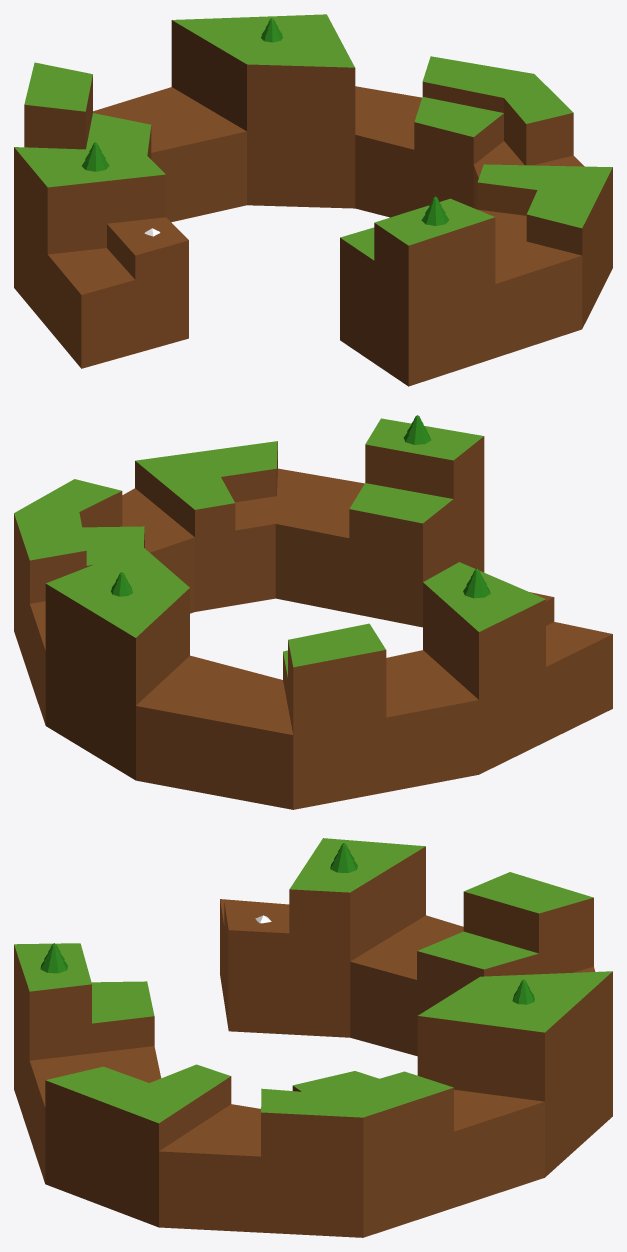
File: yellow_stone_01.fbx
The picture shows the model from 3 angles, top to bottom: view 1: azimuth 30°, elevation 25°; view 2: azimuth 150°, elevation 25°; view 3: azimuth 270°, elevation 25°; orthographic projection. The views are drawn at different scales.
Visible parts, largest first — view 1: yellow_stone_02; view 2: yellow_stone_02; view 3: yellow_stone_02.
Boxes of the visible parts, bbox=[...] form: yellow_stone_02: bbox=[14, 14, 612, 386]; yellow_stone_02: bbox=[14, 415, 612, 809]; yellow_stone_02: bbox=[14, 838, 612, 1237].
Bounding box in the file's own units: 149 × 44.7 × 143.
